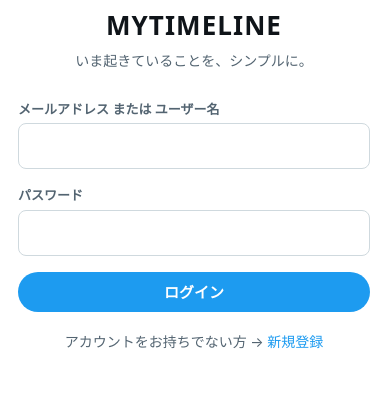
LoginPage › 同値分割（全体エラー）: 認証失敗は項目に紐づけずフォーム全体の alert で出す
This screenshot has width=389, height=415.
Type "alice" into the field labelled "メールアドレス または ユーザー名" at (194, 146), box [18,123,370,169]
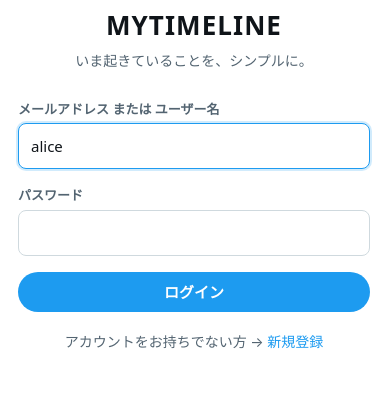
Type "password123" into the password field labelled "パスワード" at (194, 233), box [18,210,370,256]
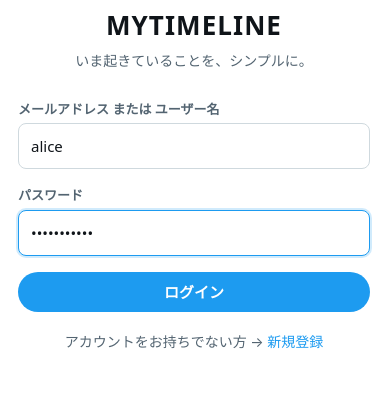
Click the button "ログイン" at (194, 292), box [18,272,370,312]
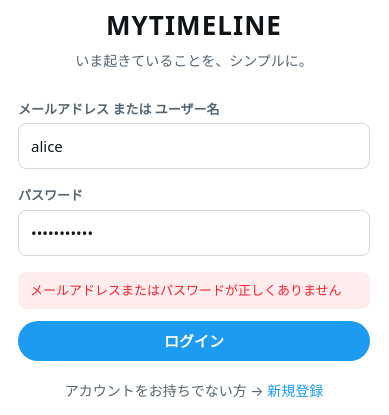
Now the message reads "メールアドレスまたはパスワードが正しくありません", box [30,281,342,299]
